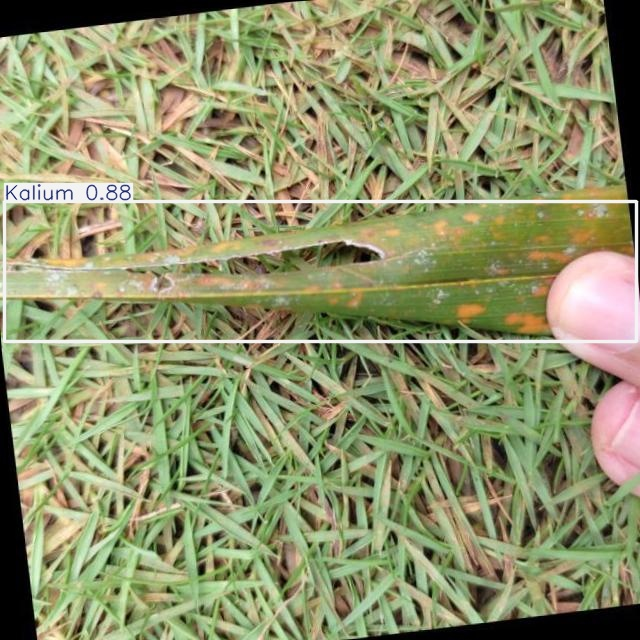Kalium: (4, 201, 637, 342)
